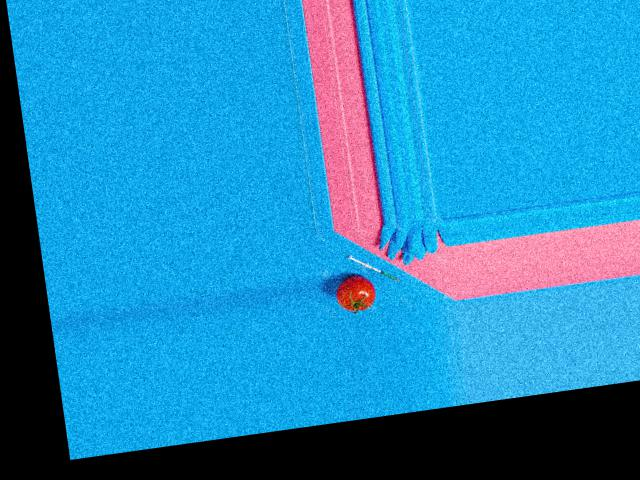tomato: (335, 272, 377, 312)
